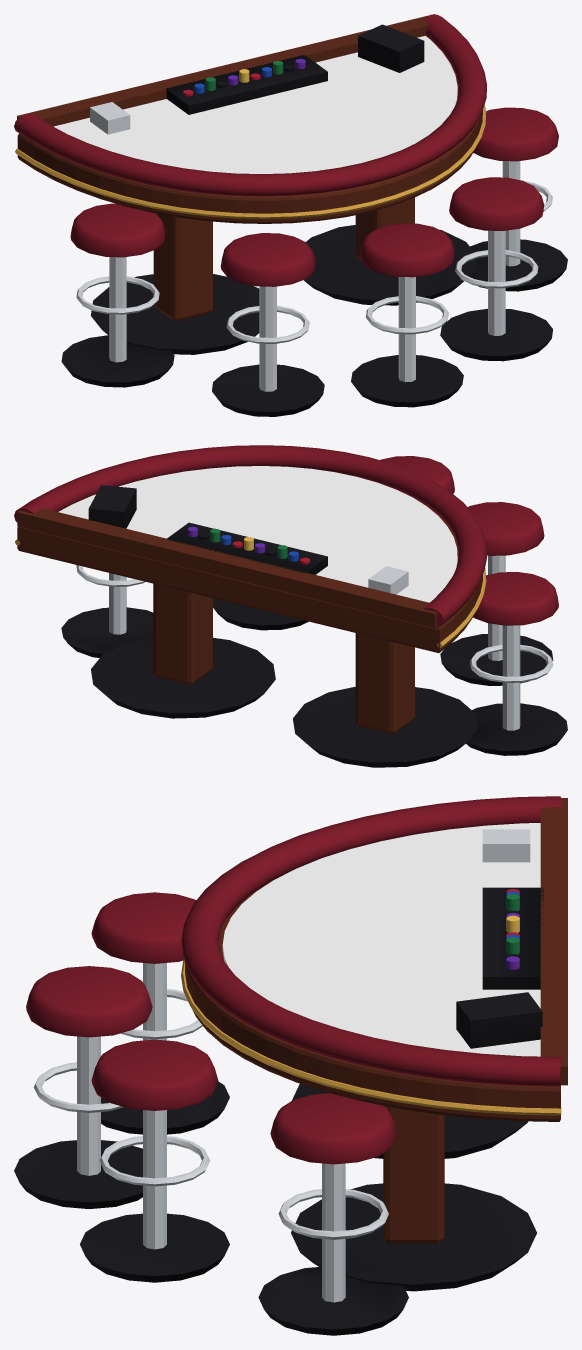
The model's file is table-blackjack.glb.
The picture shows the model from 3 angles, top to bottom: view 1: azimuth 30°, elevation 25°; view 2: azimuth 150°, elevation 25°; view 3: azimuth 270°, elevation 25°; orthographic projection. The views are drawn at different scales.
Parts seen in each view (by area): view 1: table-blackjack_lod0; view 2: table-blackjack_lod0; view 3: table-blackjack_lod0.
Boxes of the visible parts, x1=… form: table-blackjack_lod0: x1=14, y1=14, x2=567, y2=416; table-blackjack_lod0: x1=14, y1=445, x2=567, y2=767; table-blackjack_lod0: x1=14, y1=796, x2=567, y2=1335.
Size of what is drawn, in the model's own units: 2.19 by 0.8496 by 1.62.
